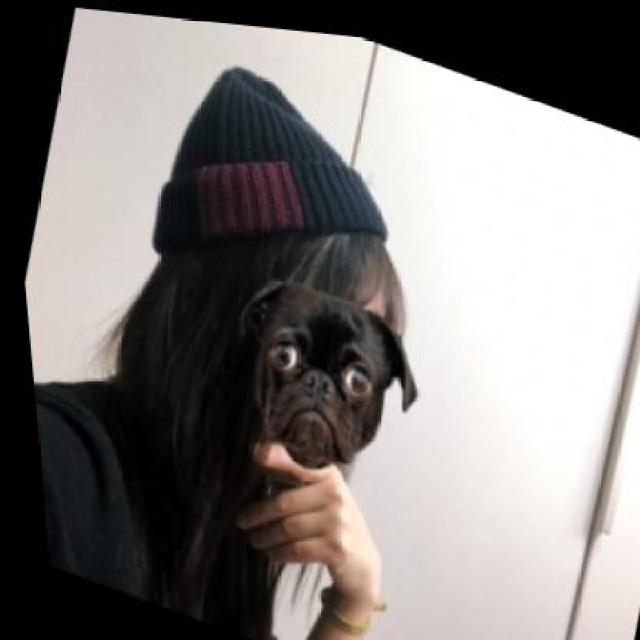hat: (132, 37, 418, 315)
